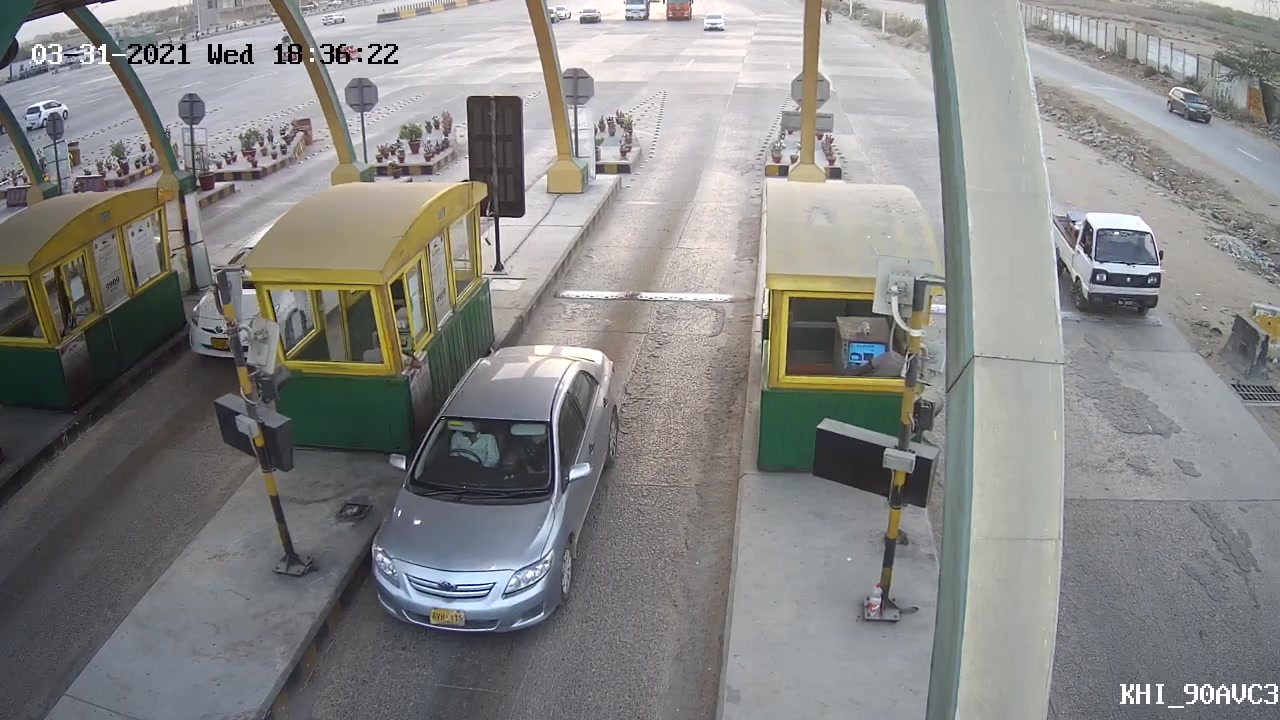F1: (369, 340, 634, 649)
